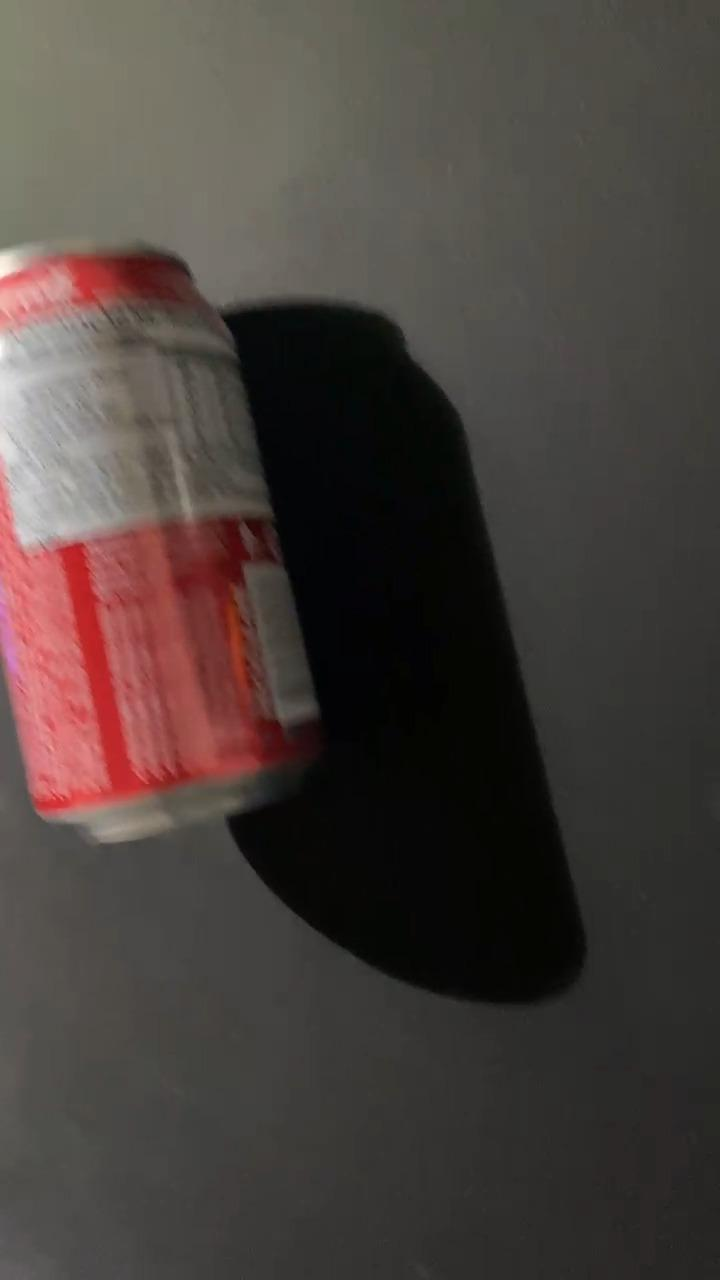coke: (0, 251, 327, 843)
